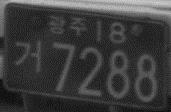1: (94, 18, 104, 45)
2: (76, 46, 103, 97)
7: (51, 40, 76, 93)
8: (135, 53, 159, 105), (106, 49, 130, 99), (109, 20, 126, 45)
거: (13, 38, 43, 75)
광주_O: (48, 13, 88, 39)
